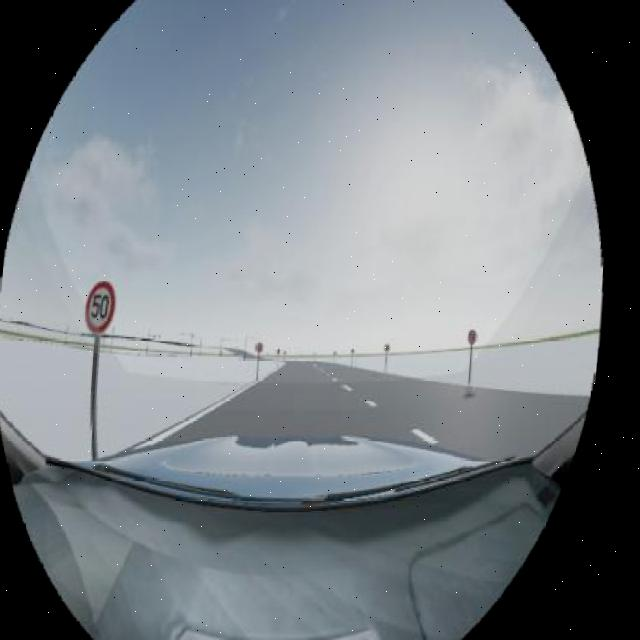Speed limit 50: (85, 278, 125, 336)
